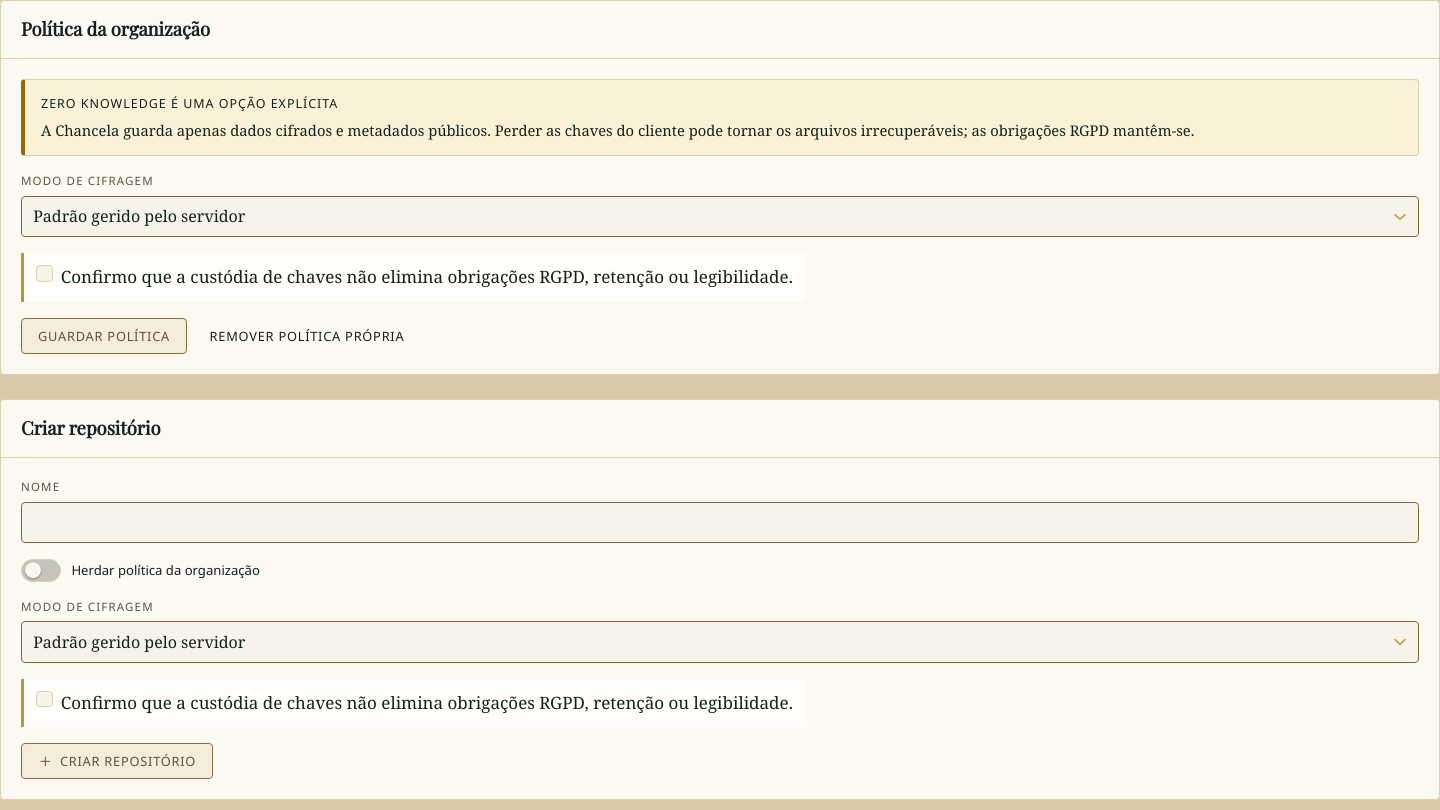
Test case: TenantPolicyEditor › reports a rejected policy save from the server
Step 1. Click the checkbox named "Confirmo que a custódia de chaves não elimina obrigações RGPD, retenção ou legibilidade." → click(44, 274), box x1=36 y1=265 x2=53 y2=282
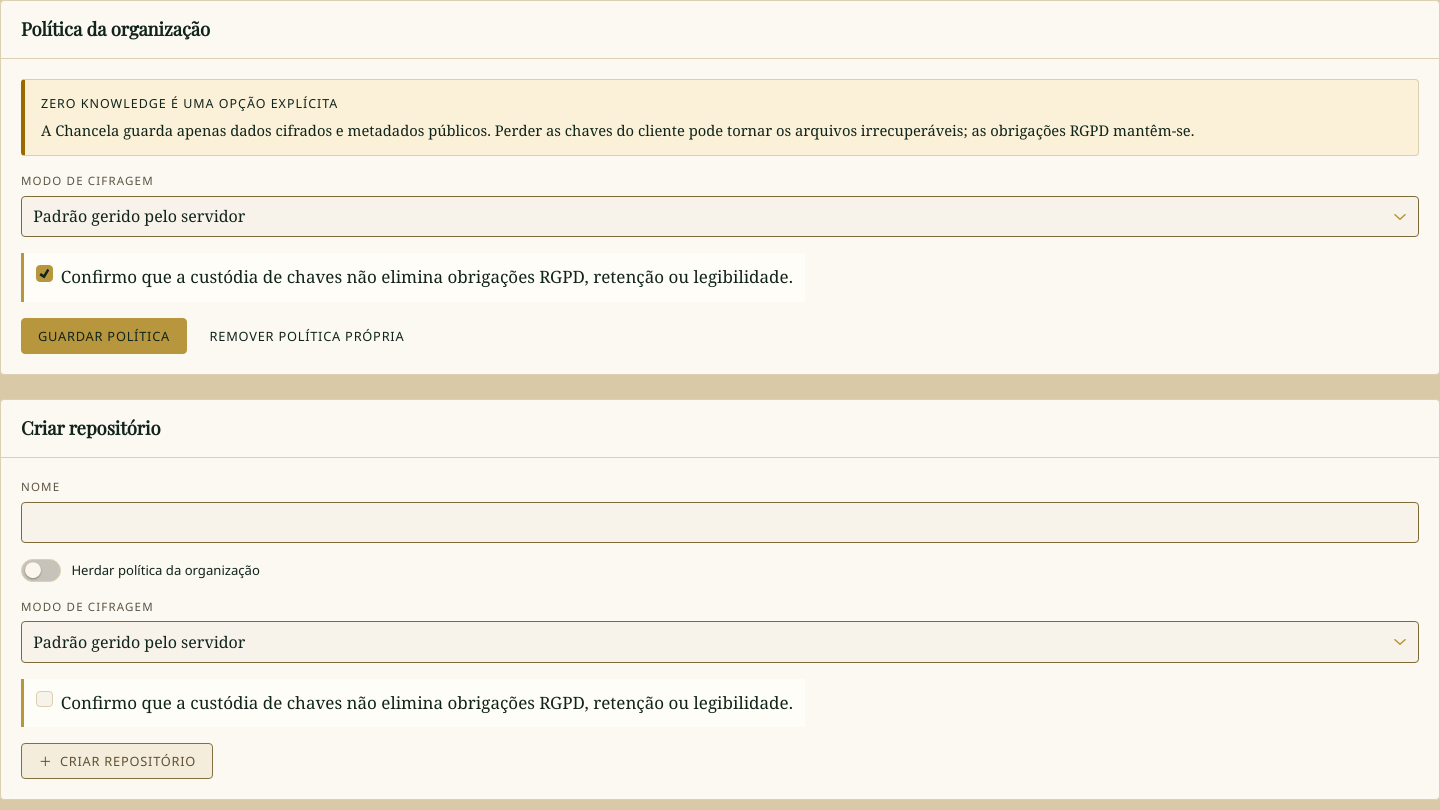
Step 2. Click the button "Guardar política" → click(104, 336), box x1=21 y1=318 x2=187 y2=354
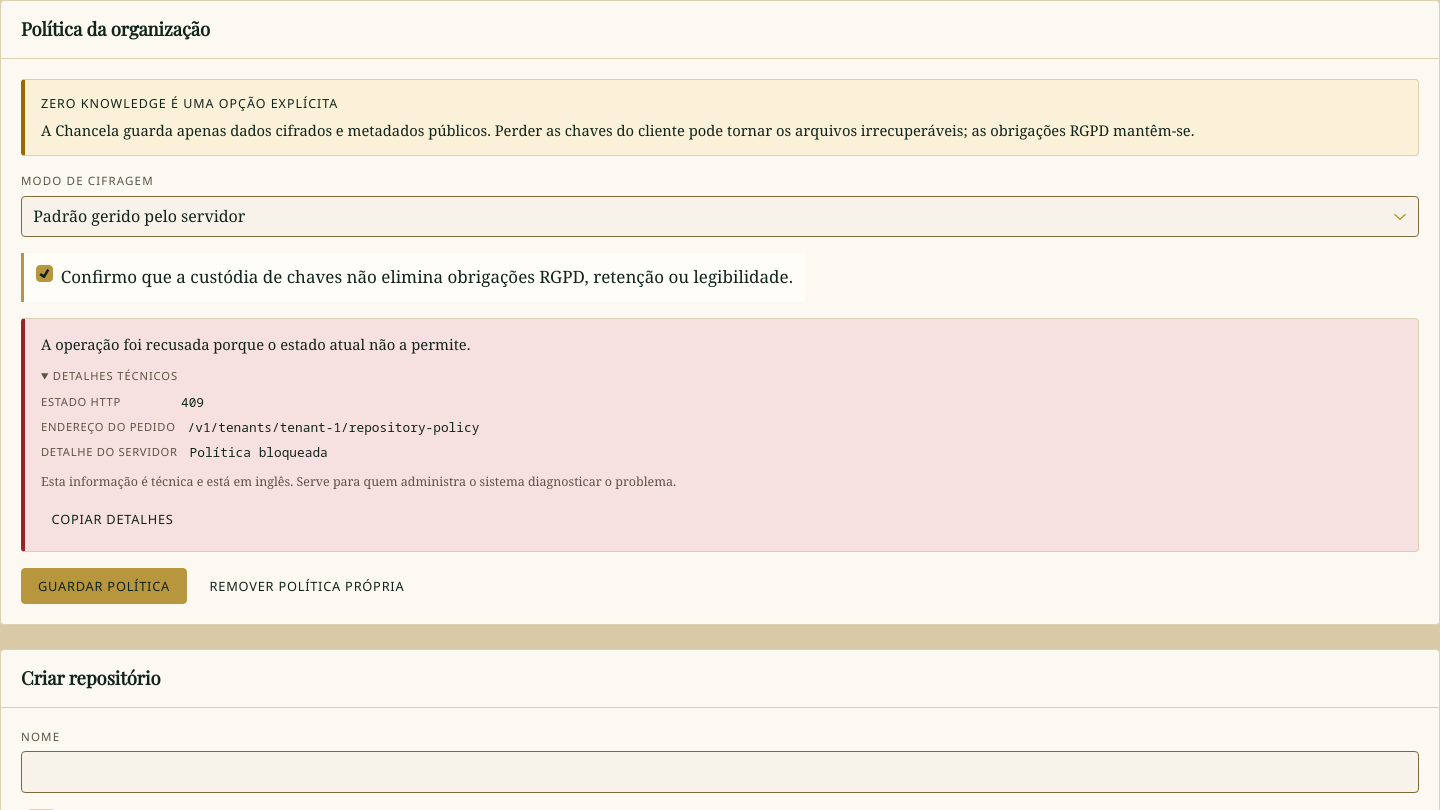
Expected: the text "Política bloqueada" is shown, x1=190 y1=443 x2=328 y2=461
